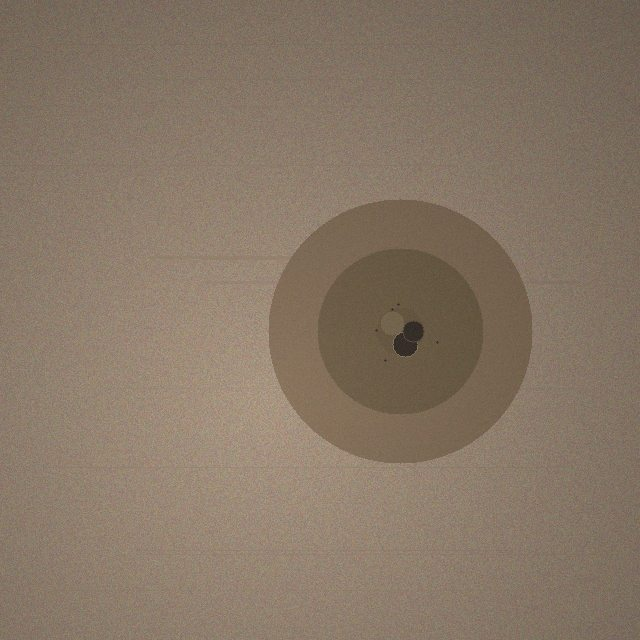shrinkage: (268, 199, 532, 463)
